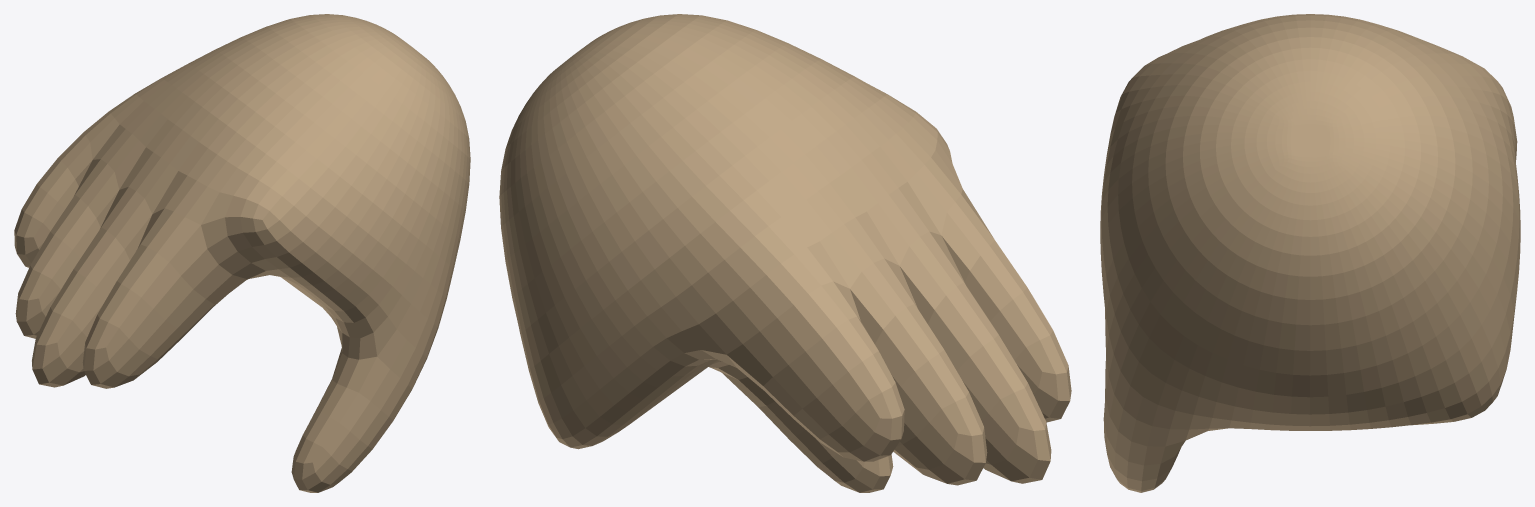
File: right_hand.fbx
3 views of the same model, side by side, from view 1: azimuth 30°, elevation 25°; view 2: azimuth 150°, elevation 25°; view 3: azimuth 270°, elevation 25° (orthographic). The views are drawn at different scales.
Parts seen in each view (by area): view 1: Sphere.001; view 2: Sphere.001; view 3: Sphere.001.
Boxes of the visible parts, left/top/right/bottom form: Sphere.001: left=14, top=14, right=470, bottom=492; Sphere.001: left=499, top=14, right=1071, bottom=492; Sphere.001: left=1100, top=14, right=1520, bottom=492.
Size of the model in its own units: 47.63 by 43.04 by 32.77.
